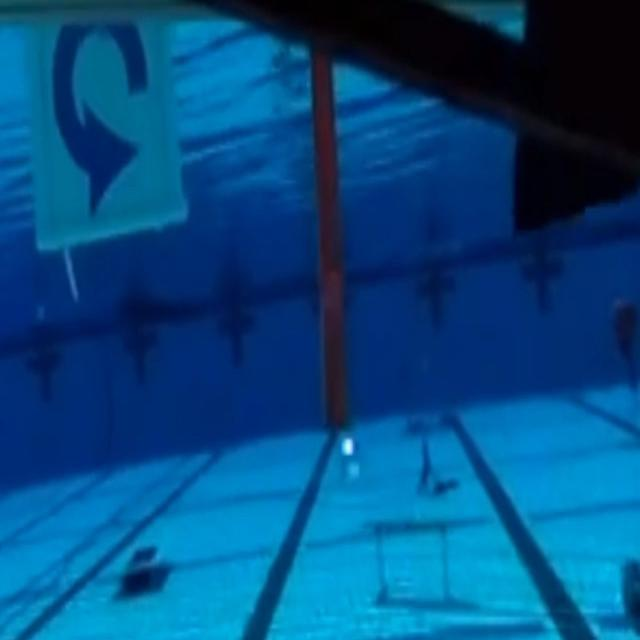Gate: (3, 4, 639, 452)
